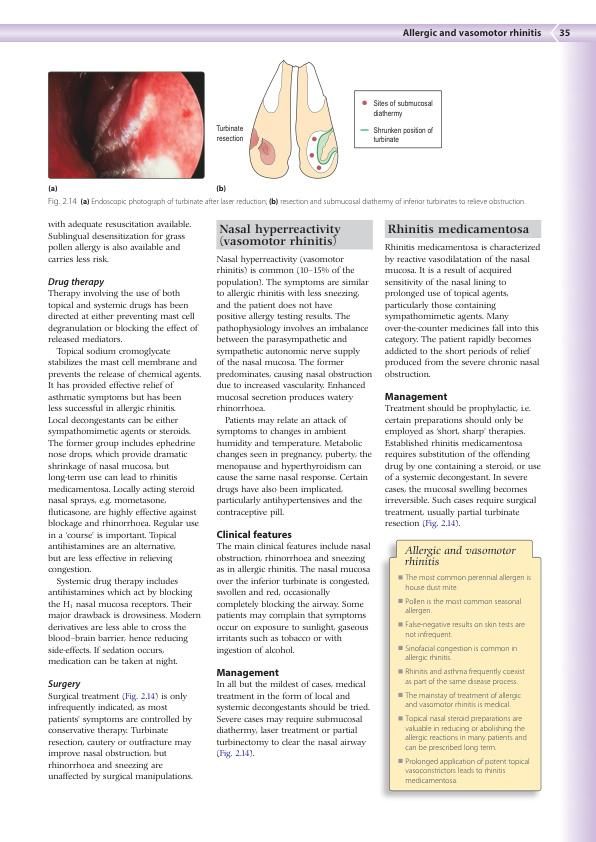caption: (47, 197, 526, 207), (403, 545, 516, 566), (47, 184, 59, 193), (215, 184, 227, 193)
header: (402, 28, 542, 39)
image: (213, 56, 446, 181), (48, 71, 206, 180)
list: (396, 573, 532, 784)
section-heading: (218, 222, 342, 247), (387, 222, 529, 234)
sub-section-heading: (215, 529, 293, 540), (216, 667, 280, 679), (384, 392, 448, 403), (47, 277, 105, 288), (47, 679, 81, 690)
text: (47, 289, 201, 668), (215, 255, 372, 519), (384, 242, 543, 379), (384, 404, 543, 530), (215, 541, 372, 657), (47, 692, 193, 783), (216, 680, 371, 760), (47, 219, 193, 263)
